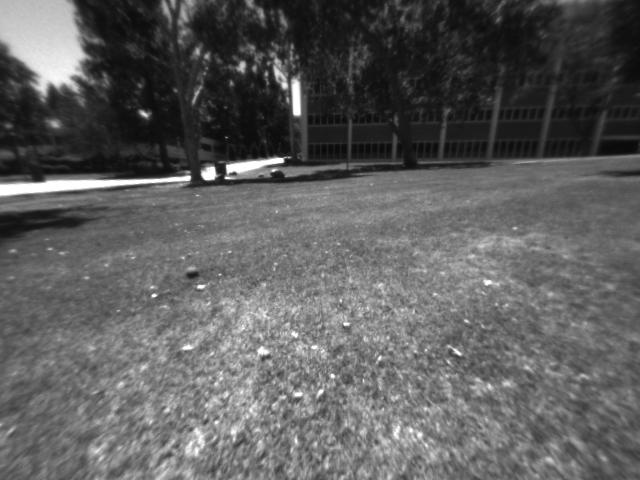dogtoy: (181, 260, 204, 281)
